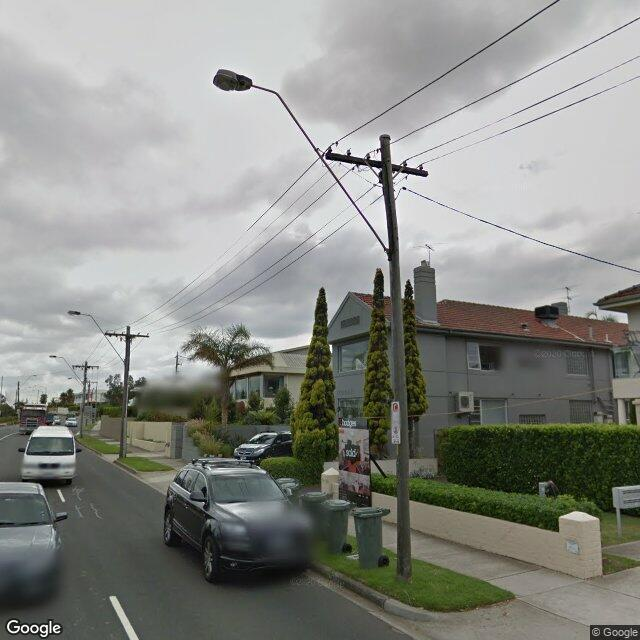crossarm: (326, 141, 429, 180), (105, 330, 150, 343), (72, 364, 100, 370)
streetlight: (212, 68, 390, 262), (67, 310, 126, 364), (48, 355, 84, 384), (20, 375, 37, 387)
timber-pole: (379, 132, 413, 578), (120, 325, 130, 459), (80, 361, 88, 436), (18, 381, 20, 401)
